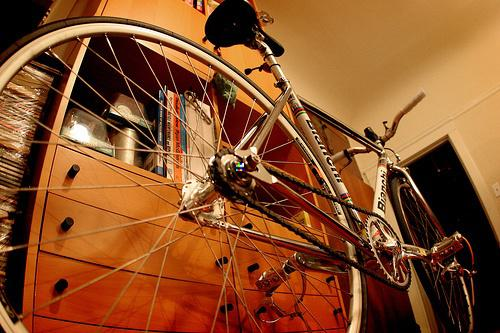car: (1, 1, 479, 333)
